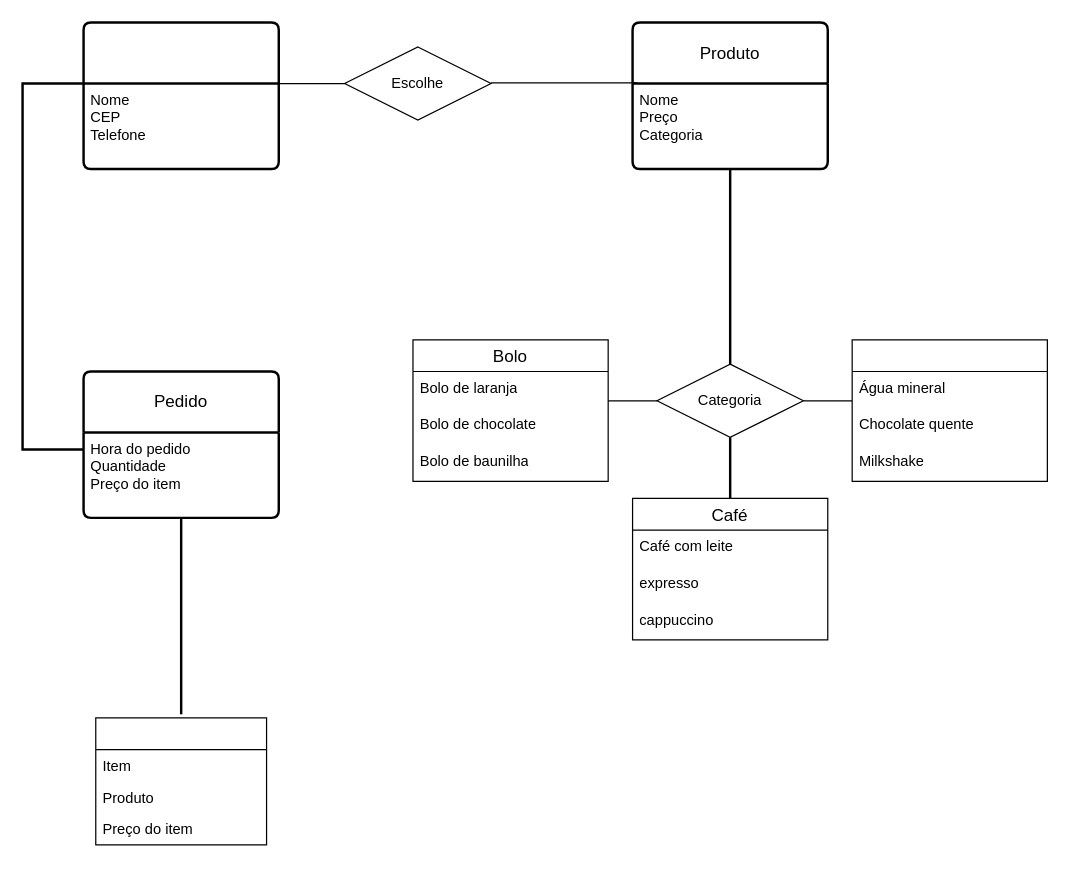
Some shapes in this 1069 by 869 pixel diagram are drawn without their labels. The box of each missing label's shape, as (x1, y1, x2, y2) in pixels:
Bebidas: (851, 339, 1047, 481)
Cliente: (82, 21, 279, 170)
Itens do pedido: (95, 717, 267, 845)
